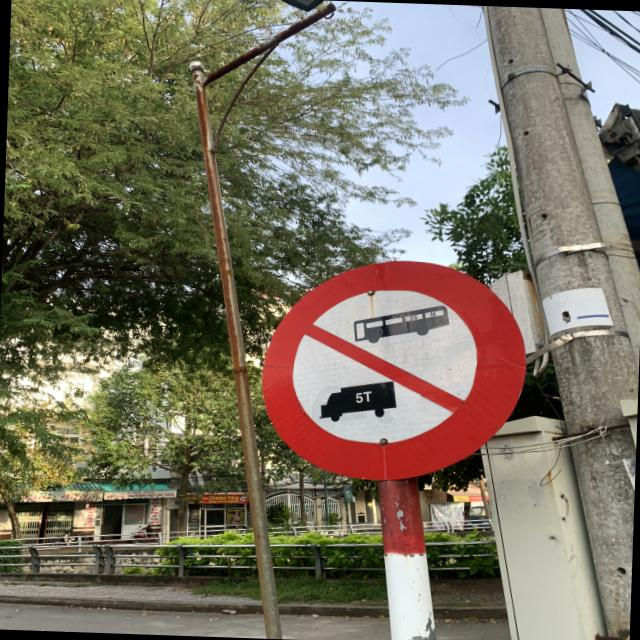Cam_XeTai_XeKhach: (255, 256, 533, 490)
